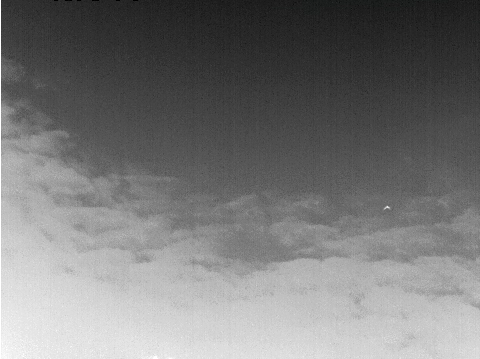dim target: (383, 205, 391, 211)
